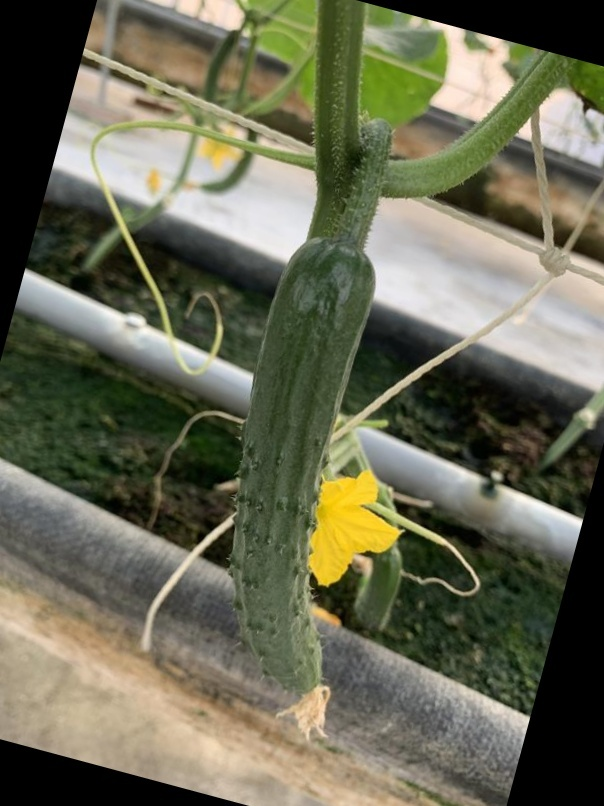mature: (189, 230, 395, 711)
